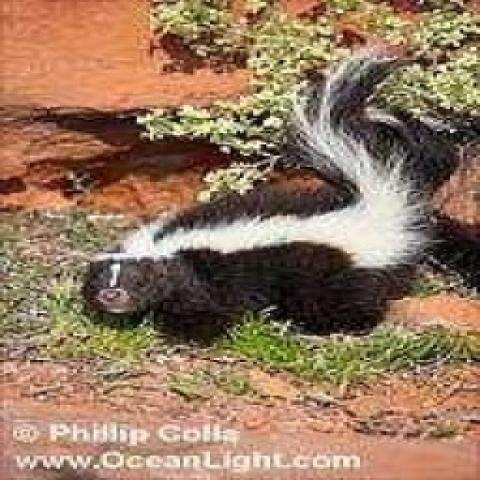small_animal: (79, 49, 478, 341)
